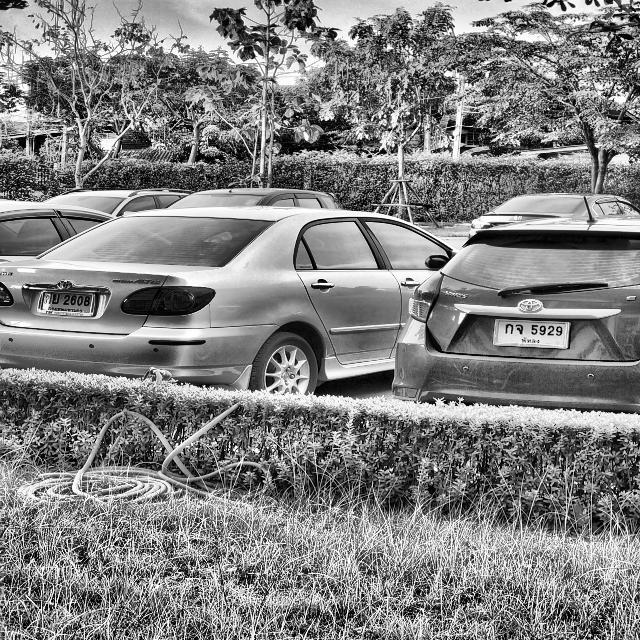license-plate: (491, 315, 576, 349), (34, 285, 97, 316)
